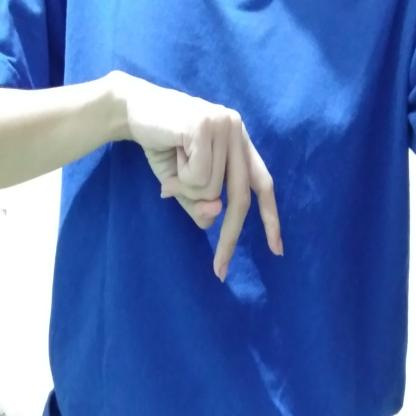run: (109, 67, 305, 290)
